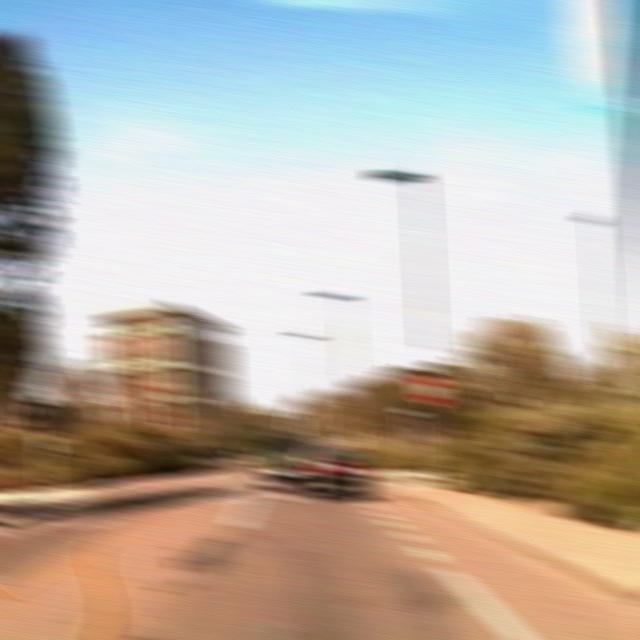stop: (414, 374, 449, 406)
